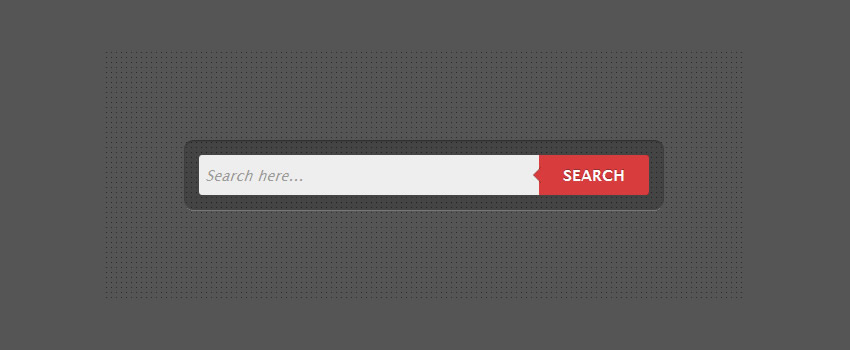search_box: (195, 152, 538, 195)
